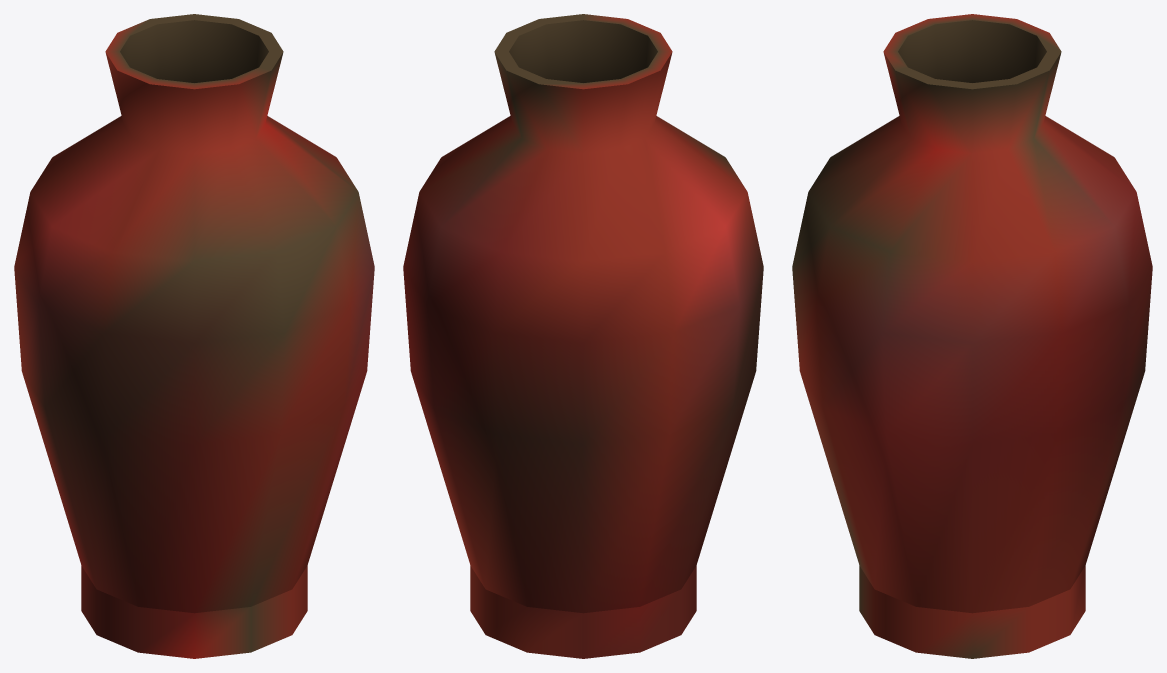
File: lib-pot-tall-a.fbx
The picture shows the model from 3 angles, left to right: view 1: azimuth 30°, elevation 25°; view 2: azimuth 150°, elevation 25°; view 3: azimuth 270°, elevation 25°; orthographic projection.
Visible parts, largest first — view 1: pCylinder12; view 2: pCylinder12; view 3: pCylinder12.
Part boxes in pixels (x1=…): pCylinder12: x1=14, y1=14, x2=374, y2=658; pCylinder12: x1=403, y1=14, x2=763, y2=658; pCylinder12: x1=792, y1=14, x2=1152, y2=658.
Bounding box in the file's own units: 0.8856 × 1.52 × 0.8856.
